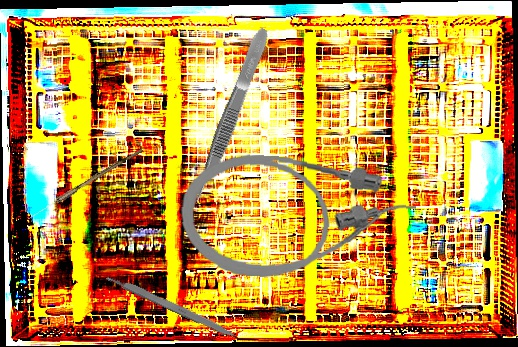Cannula: (177, 149, 419, 288)
Scalpel Handle: (105, 271, 240, 341)
Surgical Spoon: (26, 145, 144, 223)
Tissue Forceps: (186, 25, 274, 206)
